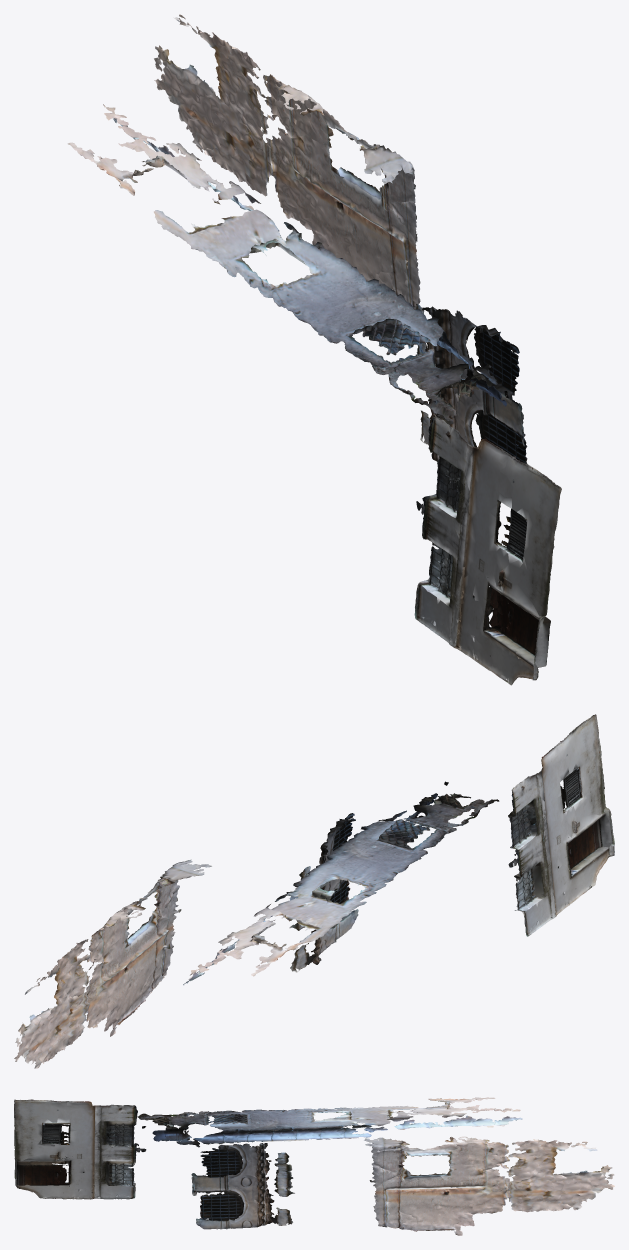
3 views of the same model, one above another, from view 1: azimuth 30°, elevation 25°; view 2: azimuth 150°, elevation 25°; view 3: azimuth 270°, elevation 25° (orthographic). The views are drawn at different scales.
Visible parts, largest first — view 1: Object_1; view 2: Object_1; view 3: Object_1.
Part boxes in pixels (left/top/right/bottom): Object_1: left=67, top=14, right=561, bottom=685; Object_1: left=14, top=714, right=614, bottom=1068; Object_1: left=14, top=1097, right=614, bottom=1235.
Bounding box in the file's own units: 24.02 × 99.39 × 20.77.
Materials: 1 (1 with a texture image).
